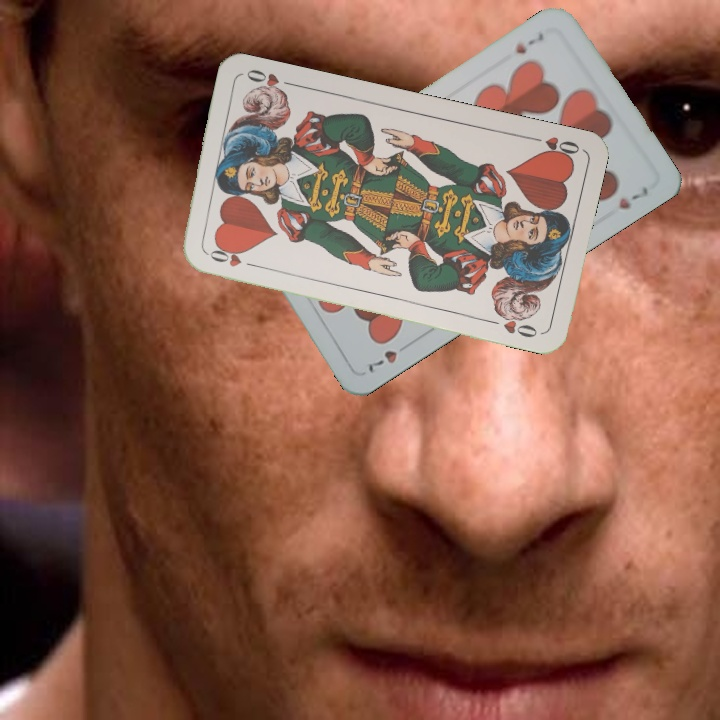H7: (361, 338, 414, 375), (511, 29, 547, 57)
HO: (525, 132, 582, 162), (202, 245, 260, 270)
